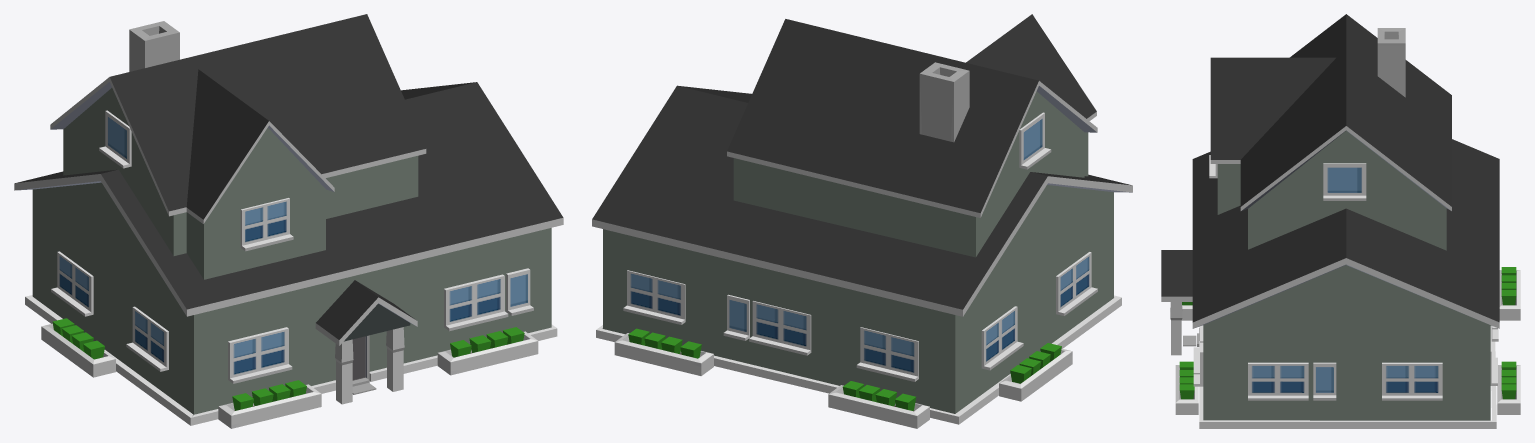
The model's file is Suburb House 2.fbx.
The picture shows the model from 3 angles, left to right: view 1: azimuth 30°, elevation 25°; view 2: azimuth 150°, elevation 25°; view 3: azimuth 270°, elevation 25°; orthographic projection. The views are drawn at different scales.
Visible parts, largest first — view 1: Suburb House 2; view 2: Suburb House 2; view 3: Suburb House 2.
Boxes of the visible parts, bbox=[...] form: Suburb House 2: bbox=[14, 14, 563, 428]; Suburb House 2: bbox=[592, 14, 1132, 428]; Suburb House 2: bbox=[1161, 14, 1520, 428].
Bounding box in the file's own units: 6.59 × 4.74 × 5.81.
